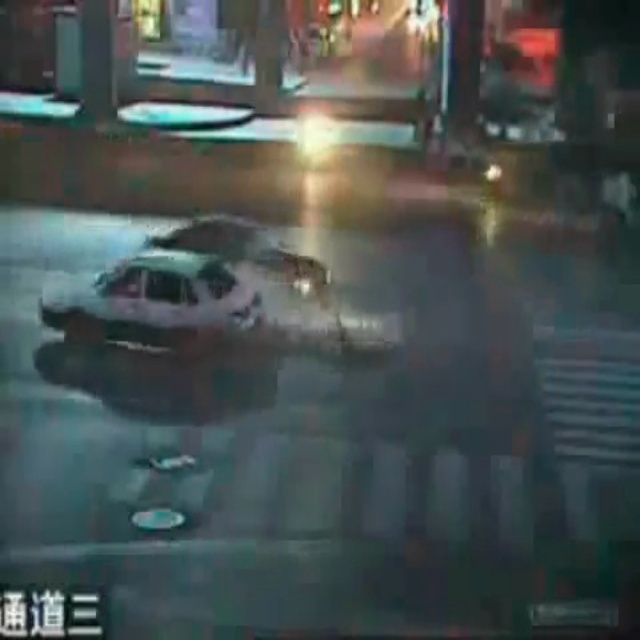acc: (32, 203, 395, 391)
